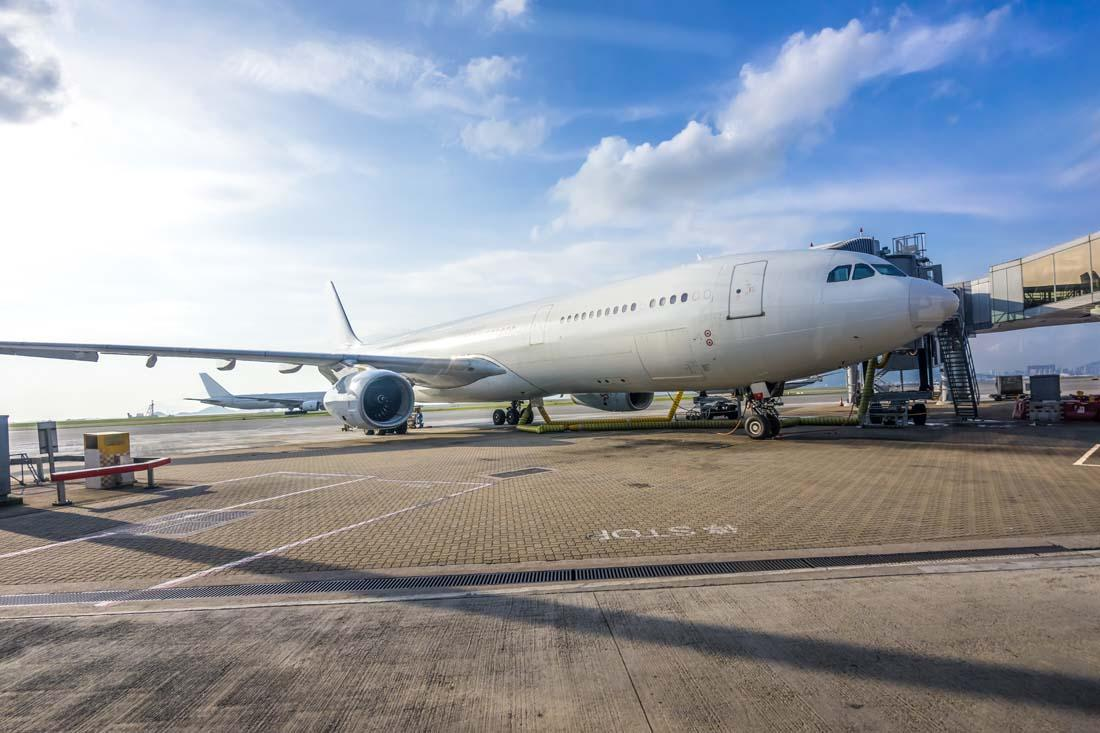airplane: (2, 221, 965, 435)
